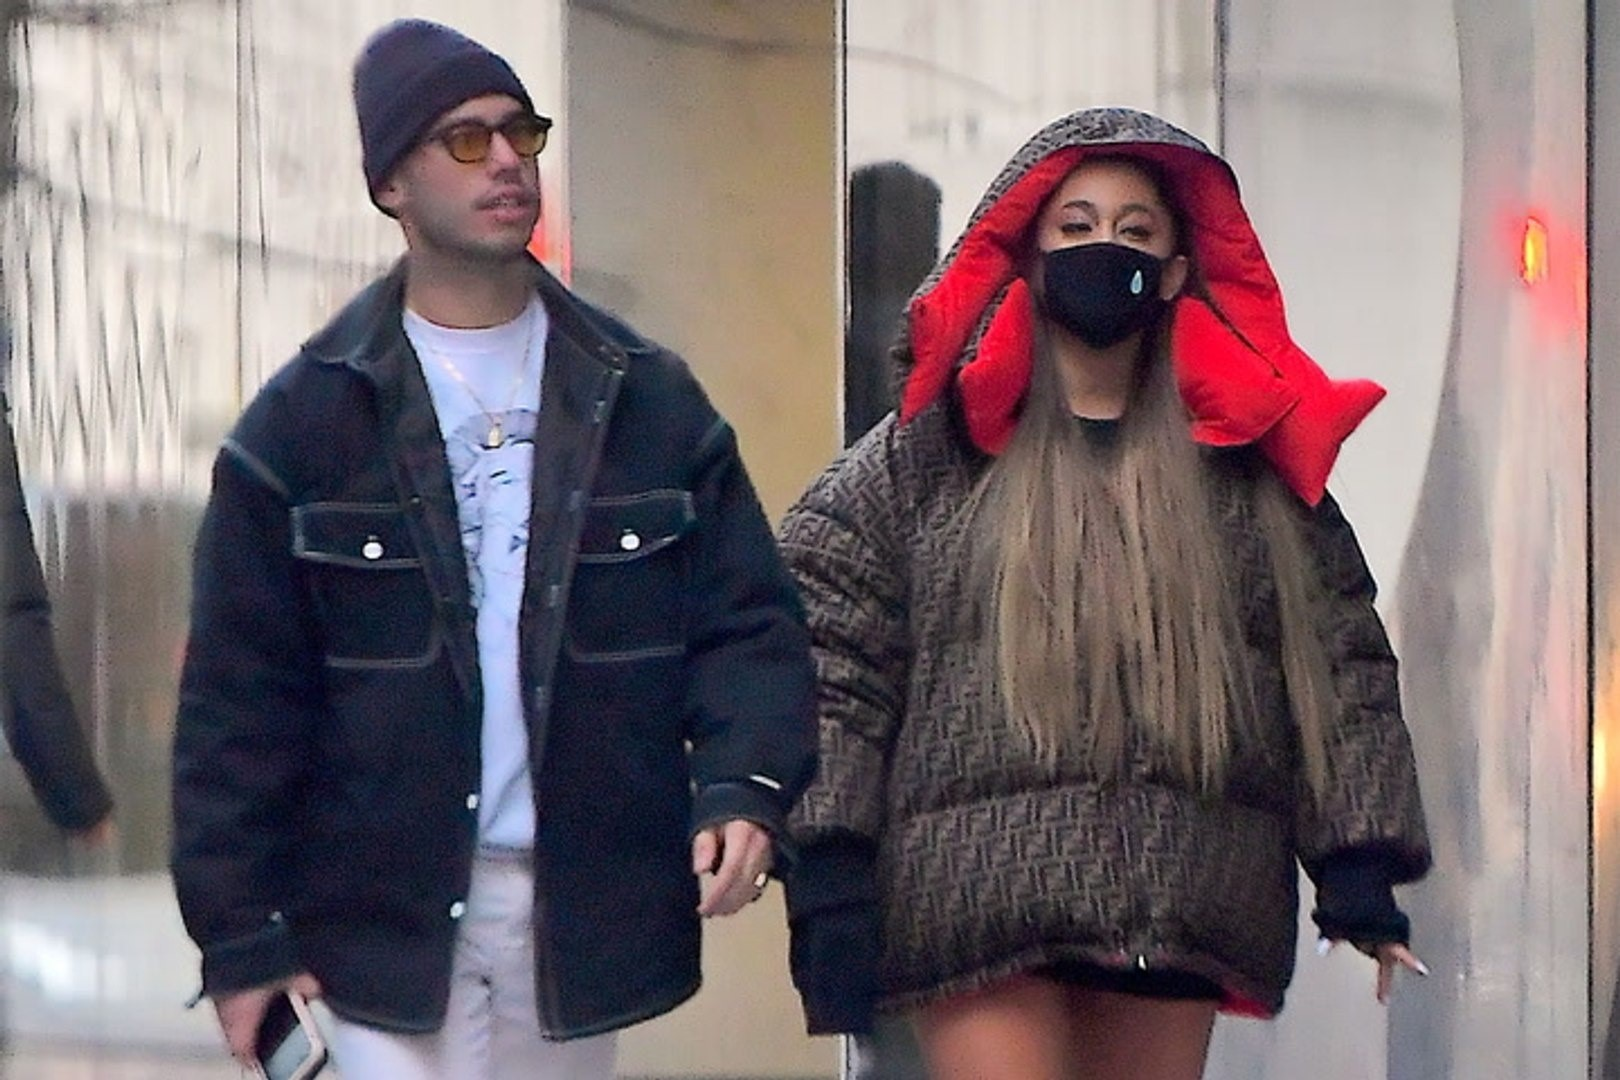face_no_mask: (374, 24, 556, 264)
face_with_mask: (1025, 131, 1199, 350)
